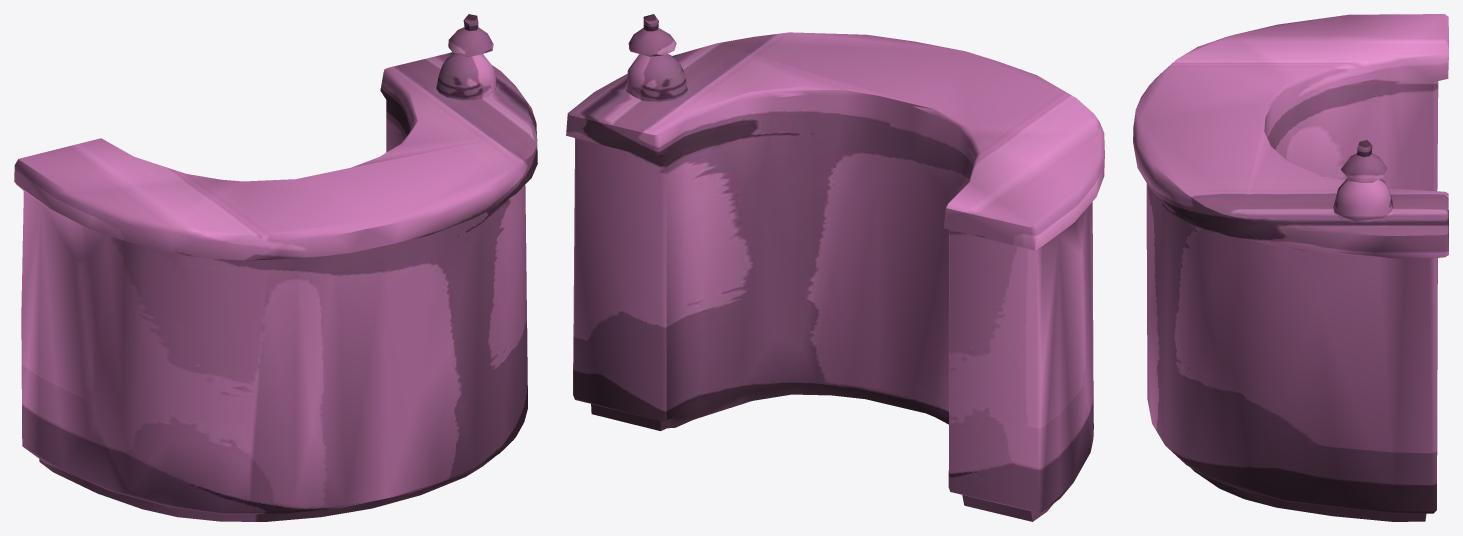
The picture shows the model from 3 angles, left to right: view 1: azimuth 30°, elevation 25°; view 2: azimuth 150°, elevation 25°; view 3: azimuth 270°, elevation 25°; orthographic projection. The views are drawn at different scales.
Parts seen in each view (by area): view 1: Decor_info_desk_b_berry; view 2: Decor_info_desk_b_berry; view 3: Decor_info_desk_b_berry.
Part boxes in pixels (bbox=[...]): Decor_info_desk_b_berry: bbox=[14, 14, 537, 521]; Decor_info_desk_b_berry: bbox=[566, 14, 1104, 521]; Decor_info_desk_b_berry: bbox=[1133, 14, 1448, 521].
Size of the model in its own units: 1.42 by 1.1 by 0.8531.
1 material, 1 textured.
